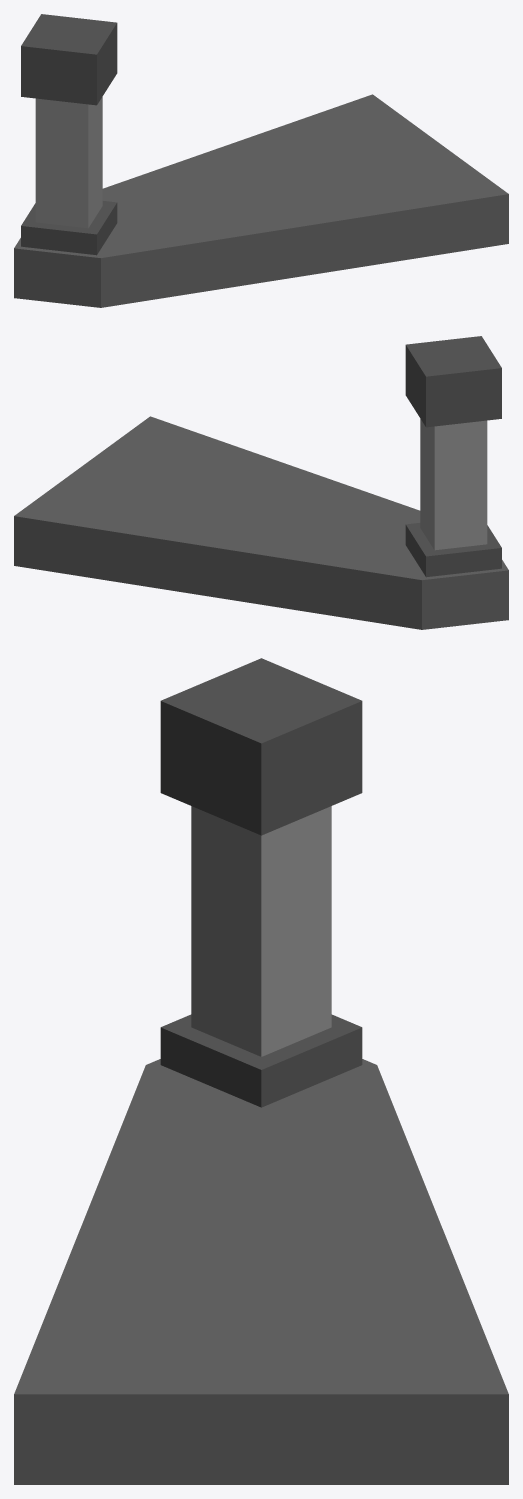
Rendered from camera_mount.FBX.
3 renders of one model, top to bottom at view 1: azimuth 30°, elevation 25°; view 2: azimuth 150°, elevation 25°; view 3: azimuth 270°, elevation 25°, orthographic. The views are drawn at different scales.
Parts seen in each view (by area): view 1: camera_mount; view 2: camera_mount; view 3: camera_mount.
Boxes of the visible parts, x1,y1,x2,y2 form: camera_mount: (14, 14, 508, 307); camera_mount: (14, 336, 508, 629); camera_mount: (14, 658, 508, 1484).
Size of the model in its own units: 35.46 by 19.87 by 19.61.
